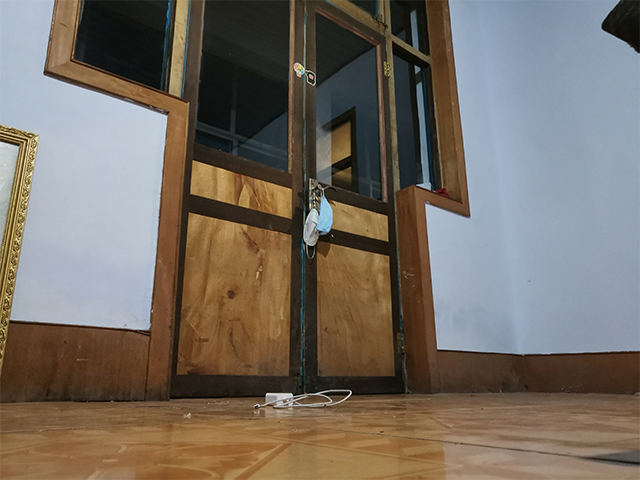wire: (251, 387, 353, 411)
